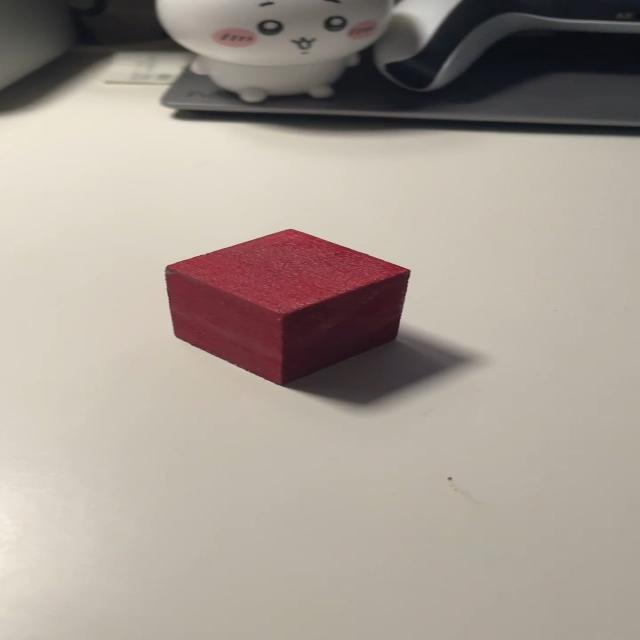red_block: (149, 229, 421, 389)
